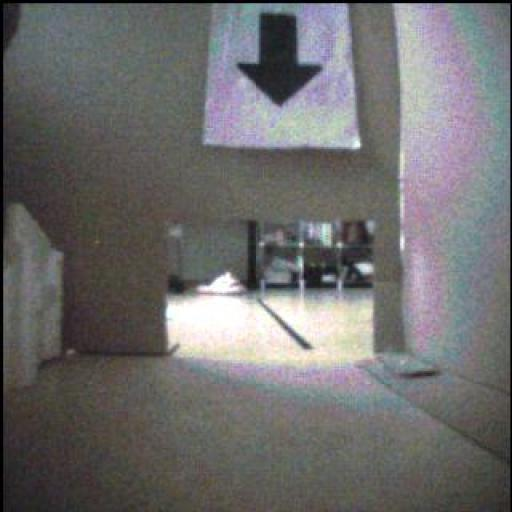arrow: (238, 14, 323, 107)
